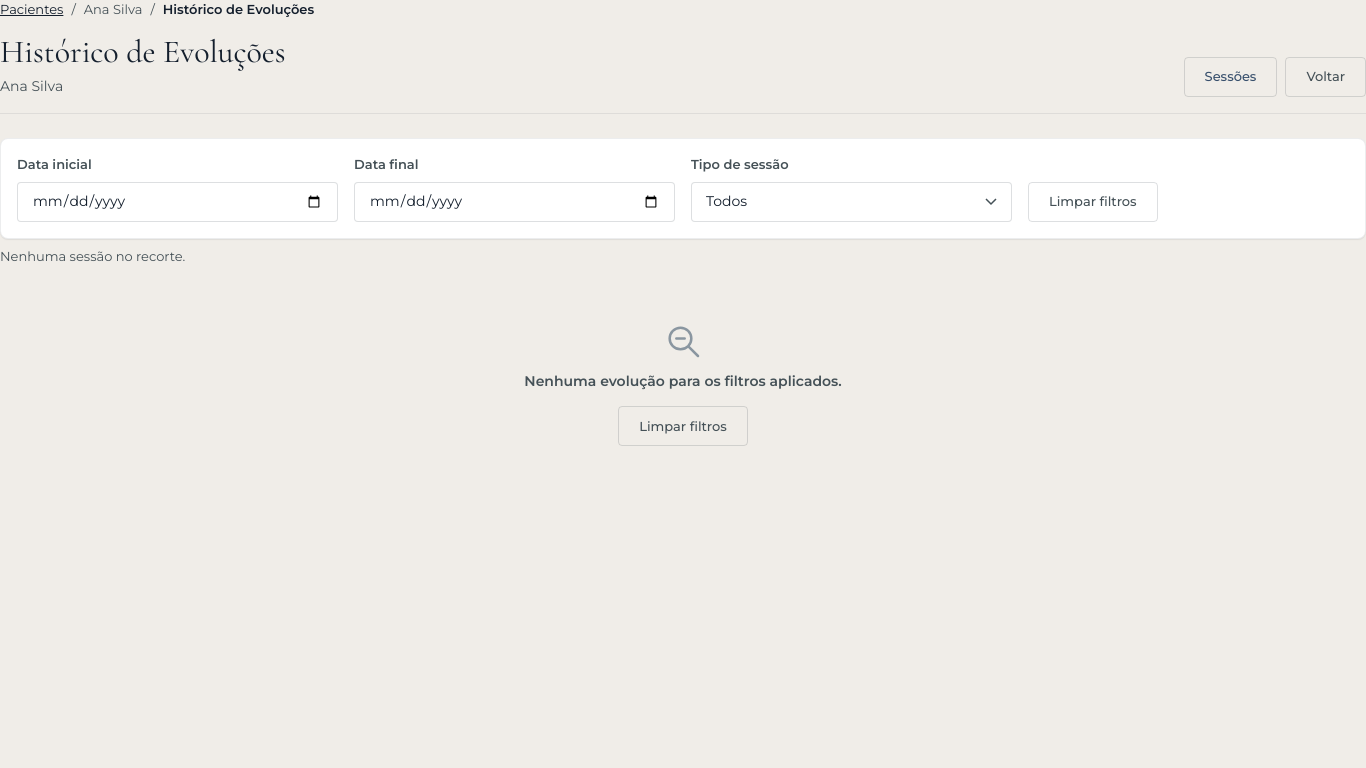
Test: PacienteEvolucaoListComponent › filtros › should show a dedicated empty state with a clear action when the cut returns nothing
The width and height of the screenshot is (1366, 768).
expect the element with class "empty-state-filtrado" shows "Nenhuma evolução para os filtros aplicados.": met, box [524,372,842,390]
What coordinates should you click on to do the following:
click the 2nd button "Limpar filtros"
I would click on:
 (683, 426)
Its box is [618,406,748,446].
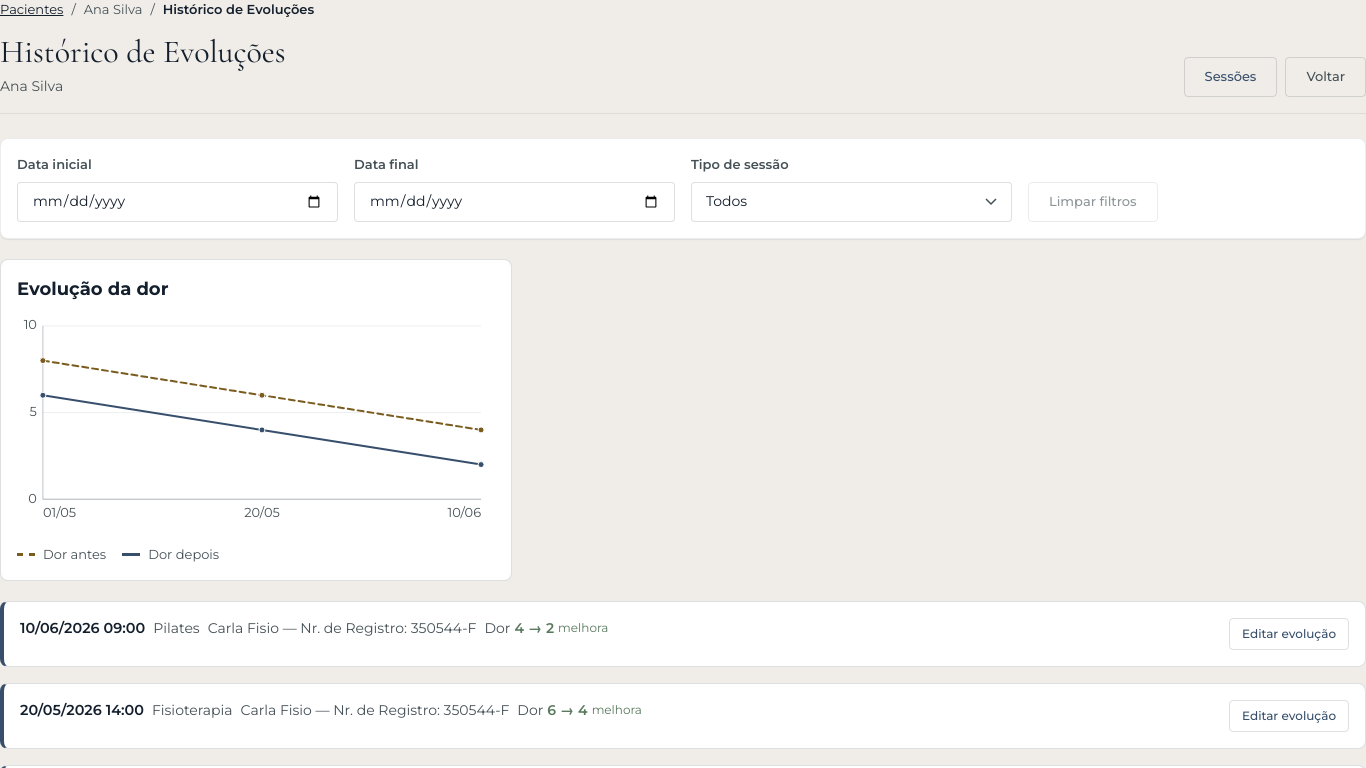
expect the element with class "empty-state-filtrado" is gone: met
